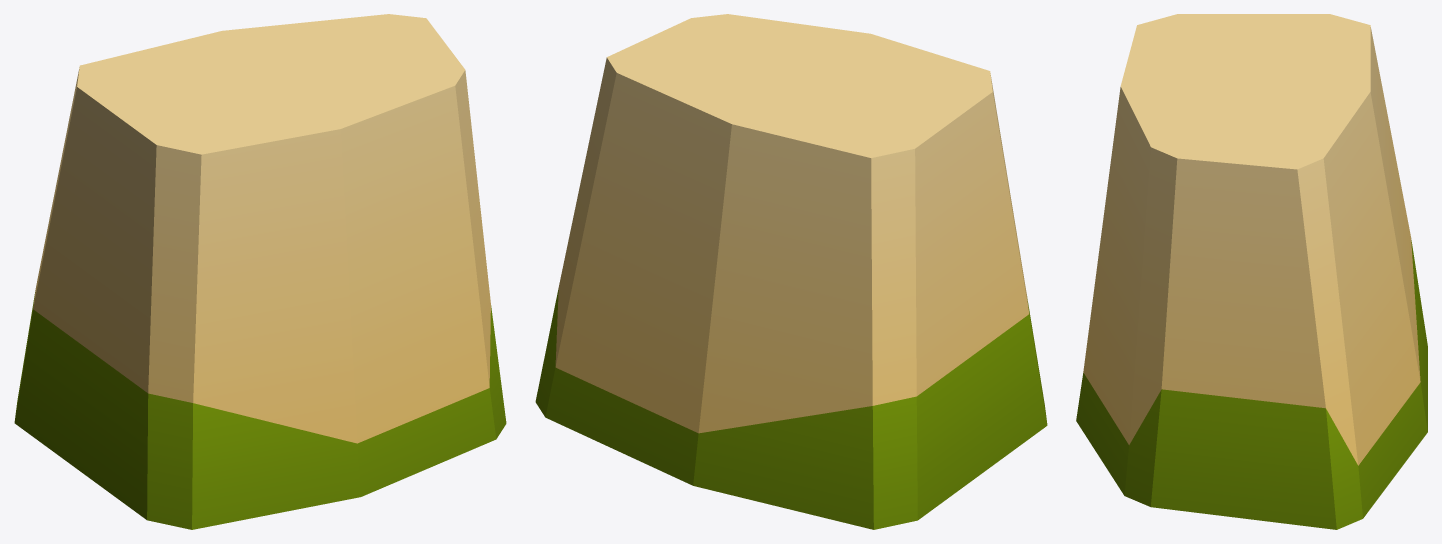
Rendered from Rock_11.fbx.
The picture shows the model from 3 angles, left to right: view 1: azimuth 30°, elevation 25°; view 2: azimuth 150°, elevation 25°; view 3: azimuth 270°, elevation 25°; orthographic projection. The views are drawn at different scales.
Visible parts, largest first — view 1: Rock_11; view 2: Rock_11; view 3: Rock_11.
Part boxes in pixels (x1,y1,x2,y2): Rock_11: (14, 14, 506, 529); Rock_11: (535, 14, 1047, 529); Rock_11: (1076, 14, 1427, 529).
Bounding box in the file's own units: 608 × 487 × 463.
